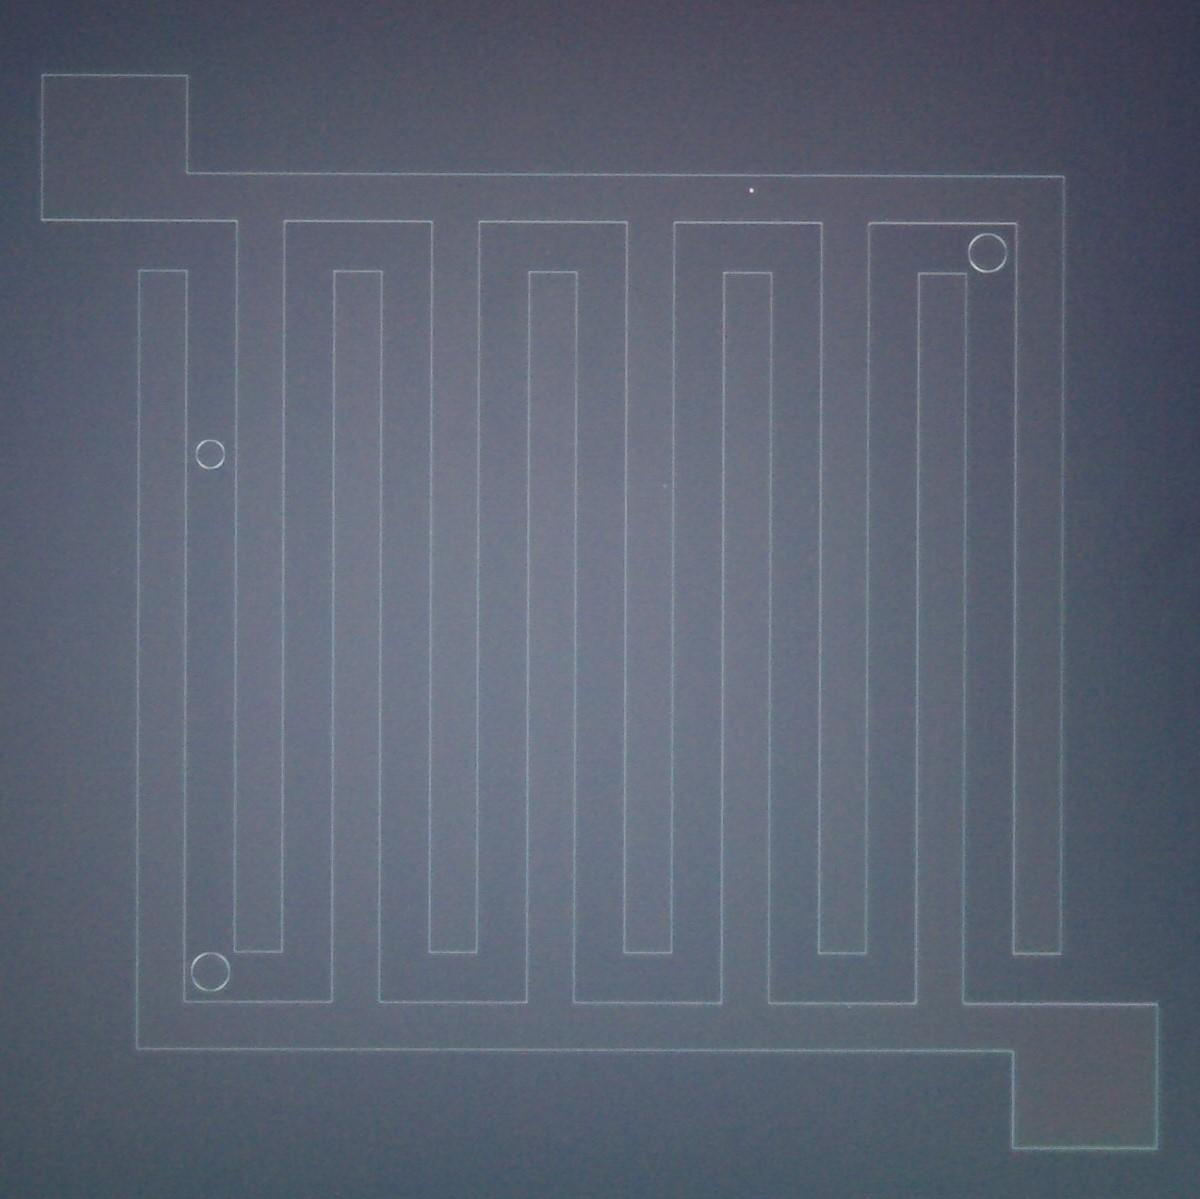circle: (190, 950, 233, 994), (967, 232, 1010, 274), (195, 437, 226, 472)
s_point: (740, 180, 763, 202)
